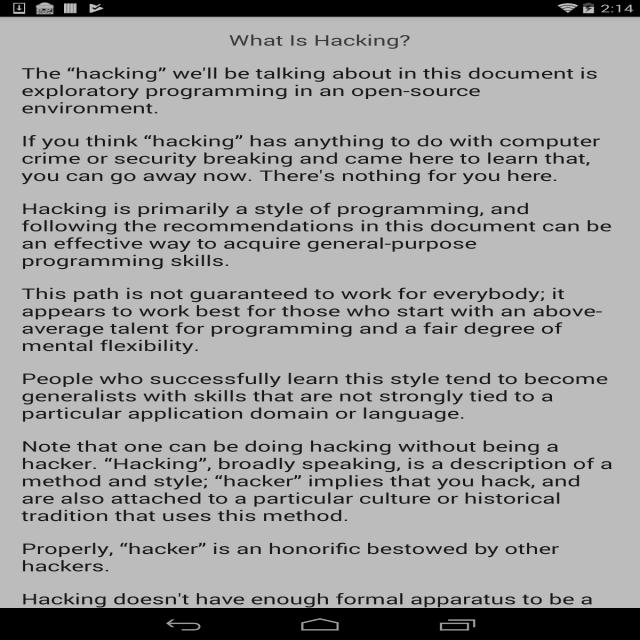TextView: (14, 433, 607, 525), (22, 284, 607, 360), (29, 199, 613, 271), (20, 372, 622, 421), (24, 138, 594, 185), (17, 62, 600, 104), (8, 534, 569, 574), (18, 586, 603, 608), (226, 28, 401, 52)
